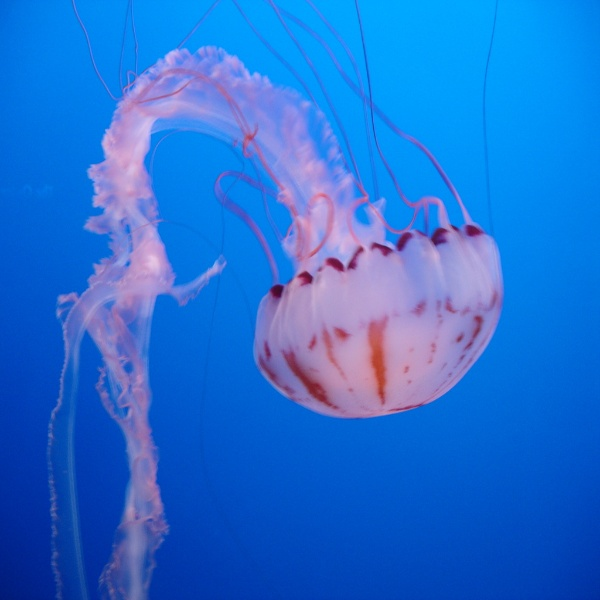Jellyfish: (45, 0, 503, 599)
